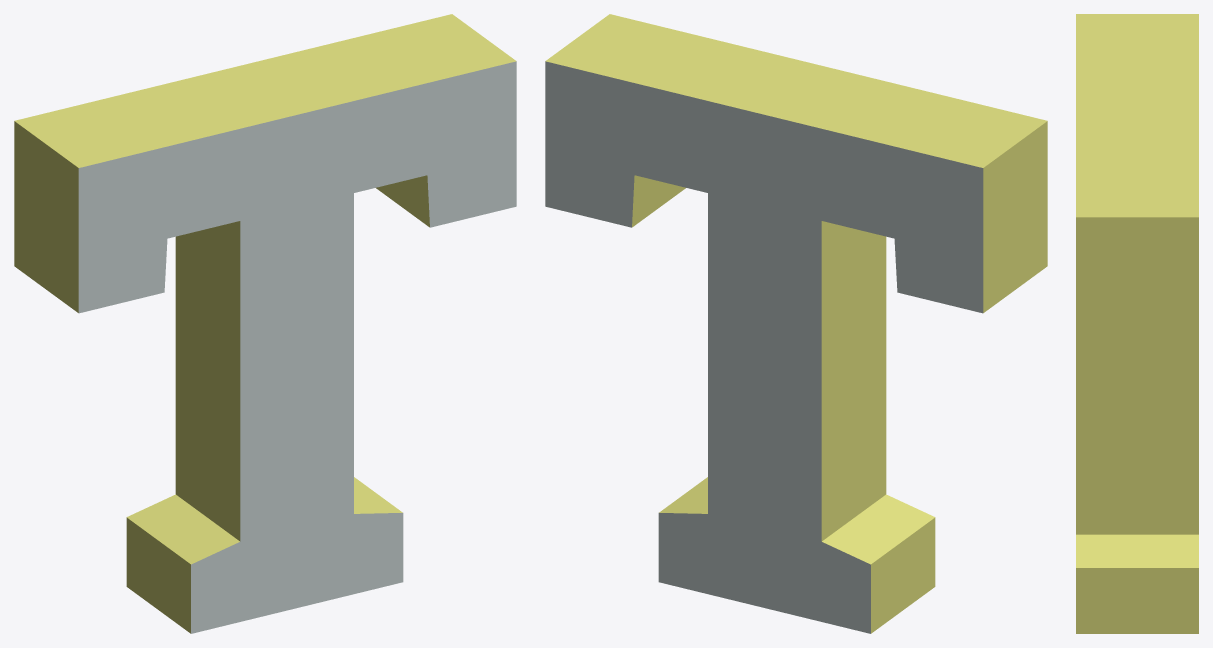
The picture shows the model from 3 angles, left to right: view 1: azimuth 30°, elevation 25°; view 2: azimuth 150°, elevation 25°; view 3: azimuth 270°, elevation 25°; orthographic projection. The views are drawn at different scales.
Parts seen in each view (by area): view 1: typeMesh3; view 2: typeMesh3; view 3: typeMesh3.
Boxes of the visible parts, bbox=[...] form: typeMesh3: bbox=[14, 14, 516, 633]; typeMesh3: bbox=[545, 14, 1047, 633]; typeMesh3: bbox=[1076, 14, 1198, 633].
Size of the model in its own units: 1.96 by 2.11 by 0.5.
